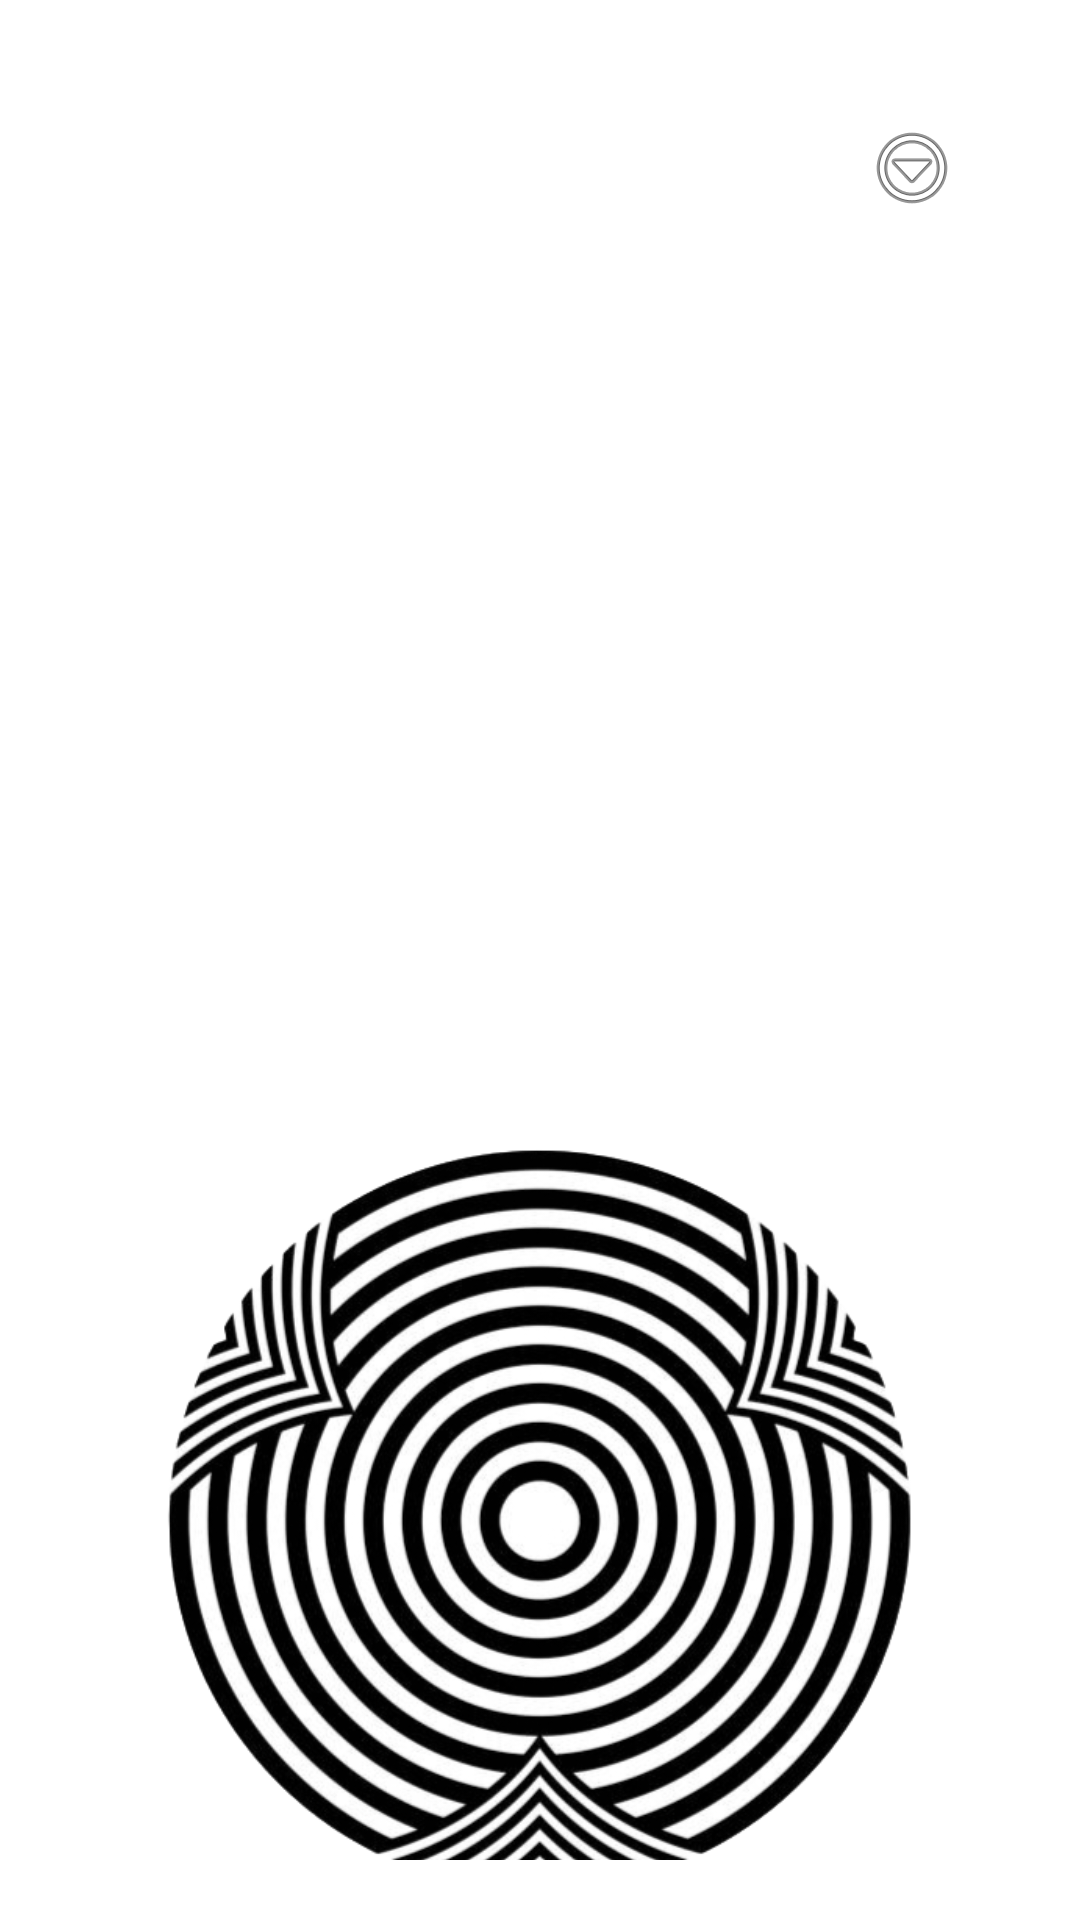

Icons on this 1080 × 1920 Android screen, each with the point to tap as point (x, y):
Menu: point (912, 168)
